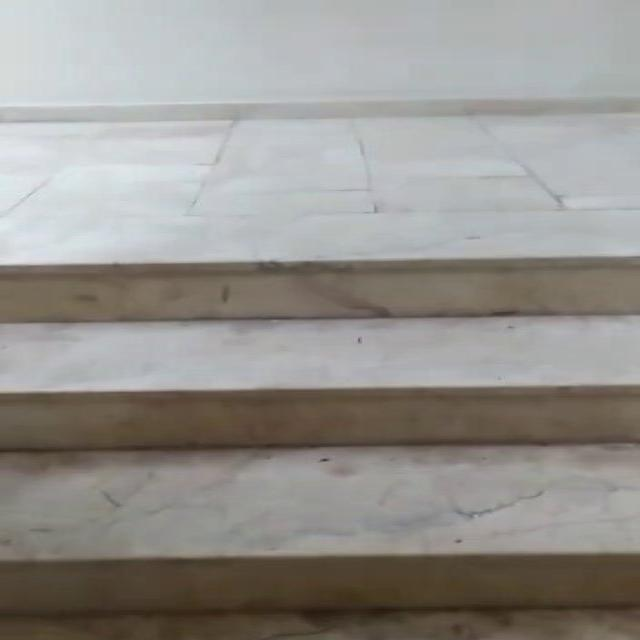stairs: (0, 98, 638, 639)
